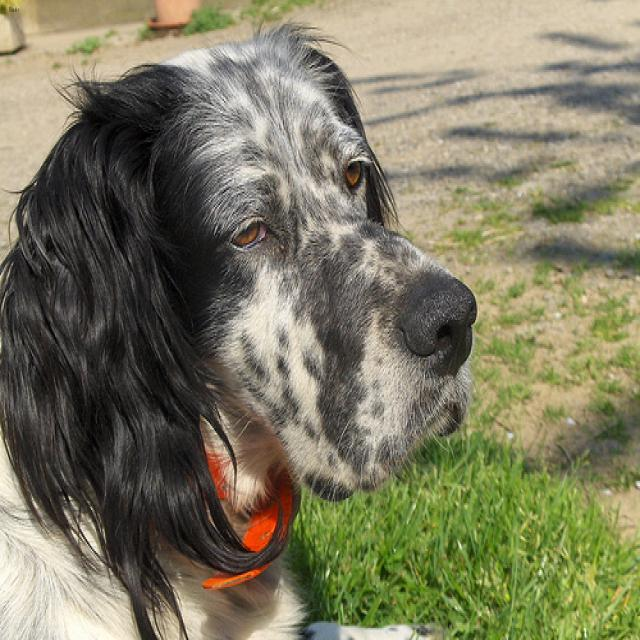dog-english_setter: (1, 14, 488, 637)
